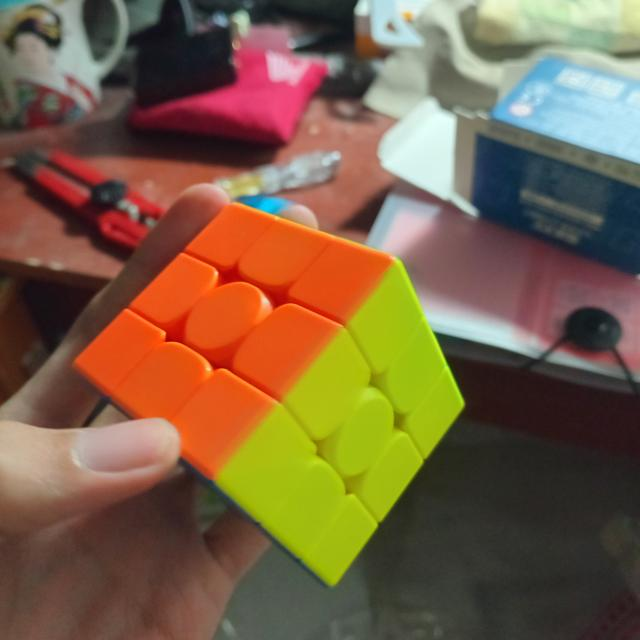down: (216, 261, 464, 586)
left: (73, 203, 395, 480)
rubik: (67, 199, 468, 593)
